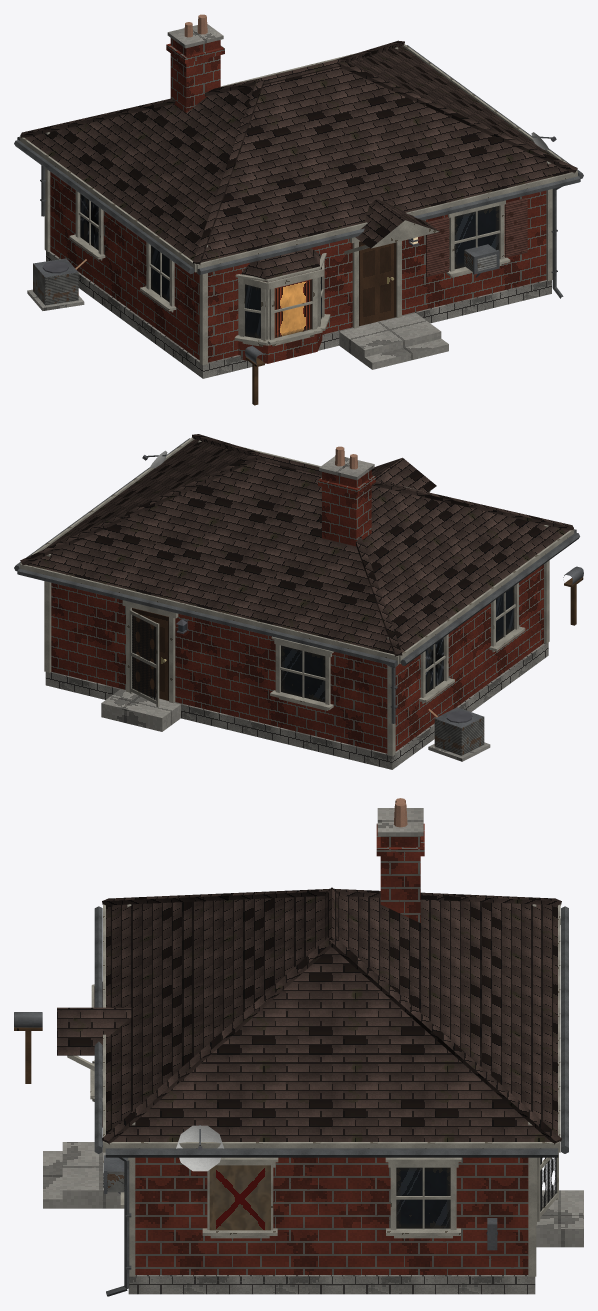
Rendered from house_b.glb.
The picture shows the model from 3 angles, top to bottom: view 1: azimuth 30°, elevation 25°; view 2: azimuth 150°, elevation 25°; view 3: azimuth 270°, elevation 25°; orthographic projection. The views are drawn at different scales.
Visible parts, largest first — view 1: detail, shell-col; view 2: detail, shell-col; view 3: detail, shell-col.
Part boxes in pixels (x1,y1,x2,y2): detail: (14, 14, 583, 405); shell-col: (46, 172, 551, 378); detail: (14, 434, 583, 761); shell-col: (45, 564, 548, 769); detail: (14, 798, 568, 1296); shell-col: (43, 1142, 583, 1294).
Bounding box in the file's own units: 11.25 × 6.49 × 9.95.
24 materials, 24 textured.
